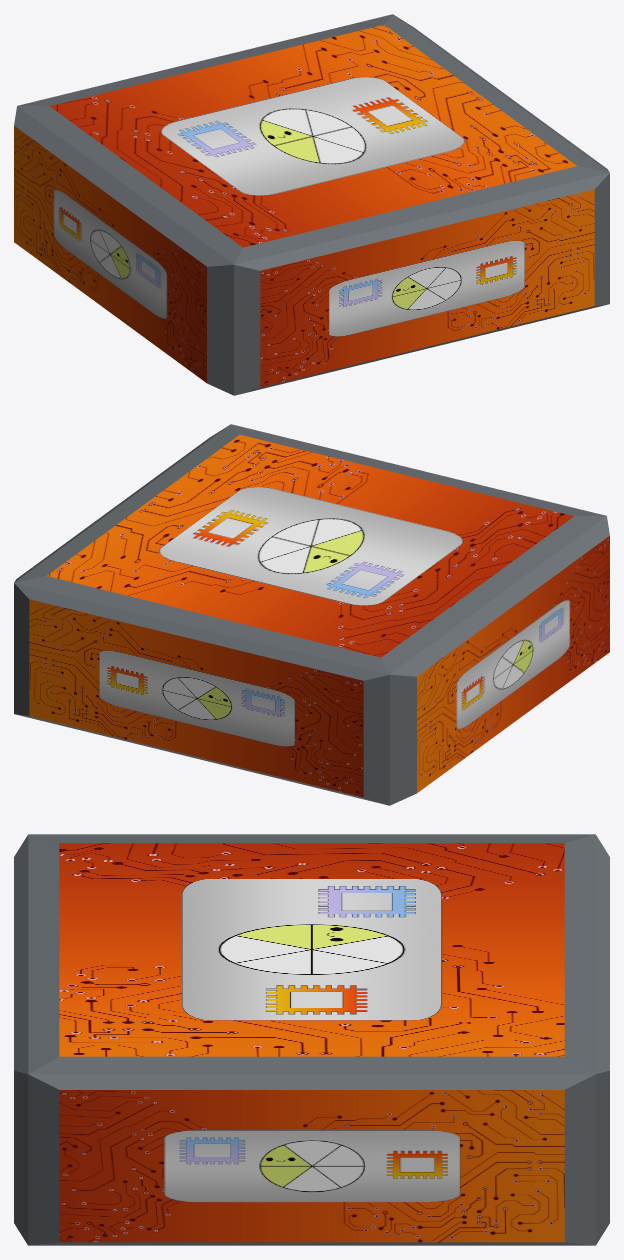
3 renders of one model, top to bottom at view 1: azimuth 30°, elevation 25°; view 2: azimuth 150°, elevation 25°; view 3: azimuth 270°, elevation 25°, orthographic. The views are drawn at different scales.
Visible parts, largest first — view 1: 2/6; view 2: 2/6; view 3: 2/6.
Part boxes in pixels (<box>): 2/6: <box>14,14,609,395</box>; 2/6: <box>14,424,609,805</box>; 2/6: <box>14,834,609,1245</box>.
Bounding box in the file's own units: 213 × 69.99 × 210.
3 materials, 2 textured.
